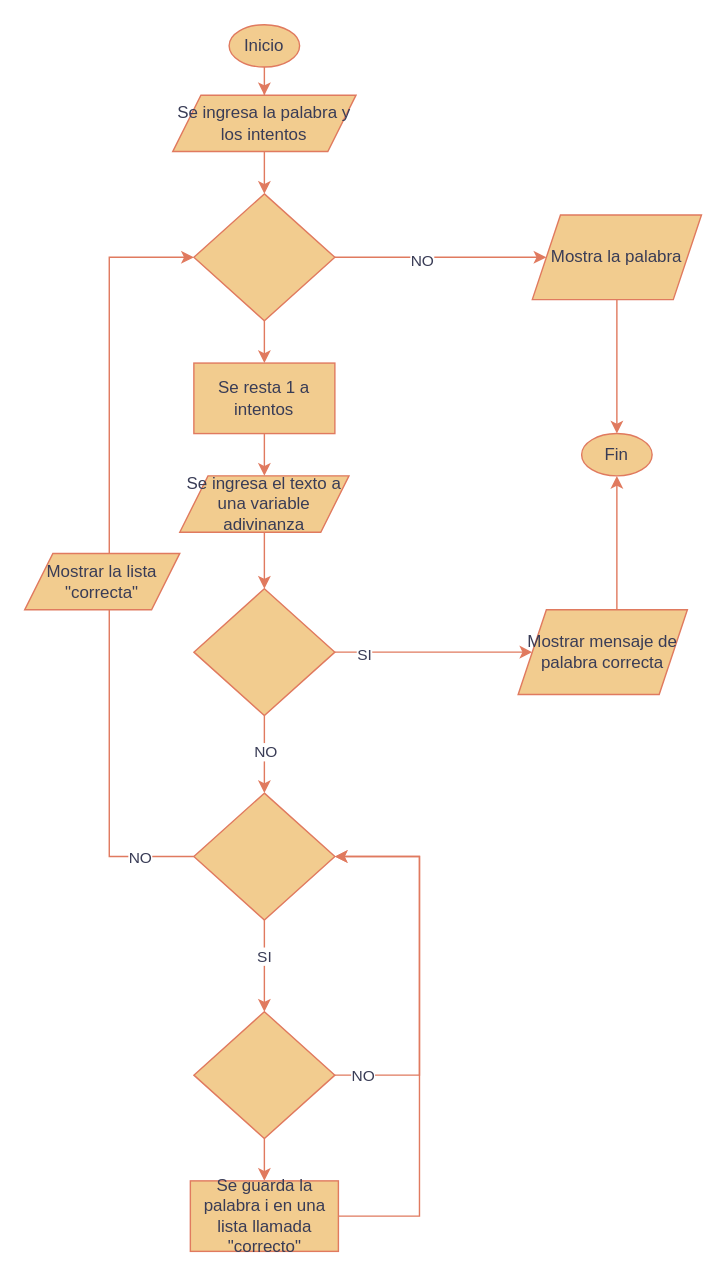
This 726x1282 diagram has some shape labels left out. The shapes that lost their labels are listed below. From the top down, each one's centre as x and y in pixels, then its label:
At [263,256]: "Mientras que intentos sea diferente a 0".
At [263,651]: "Si adivinanza es igual a palabra".
At [263,856]: "for i in adivinanza".
At [263,1074]: "SI i conincide con una letra de palabra".
